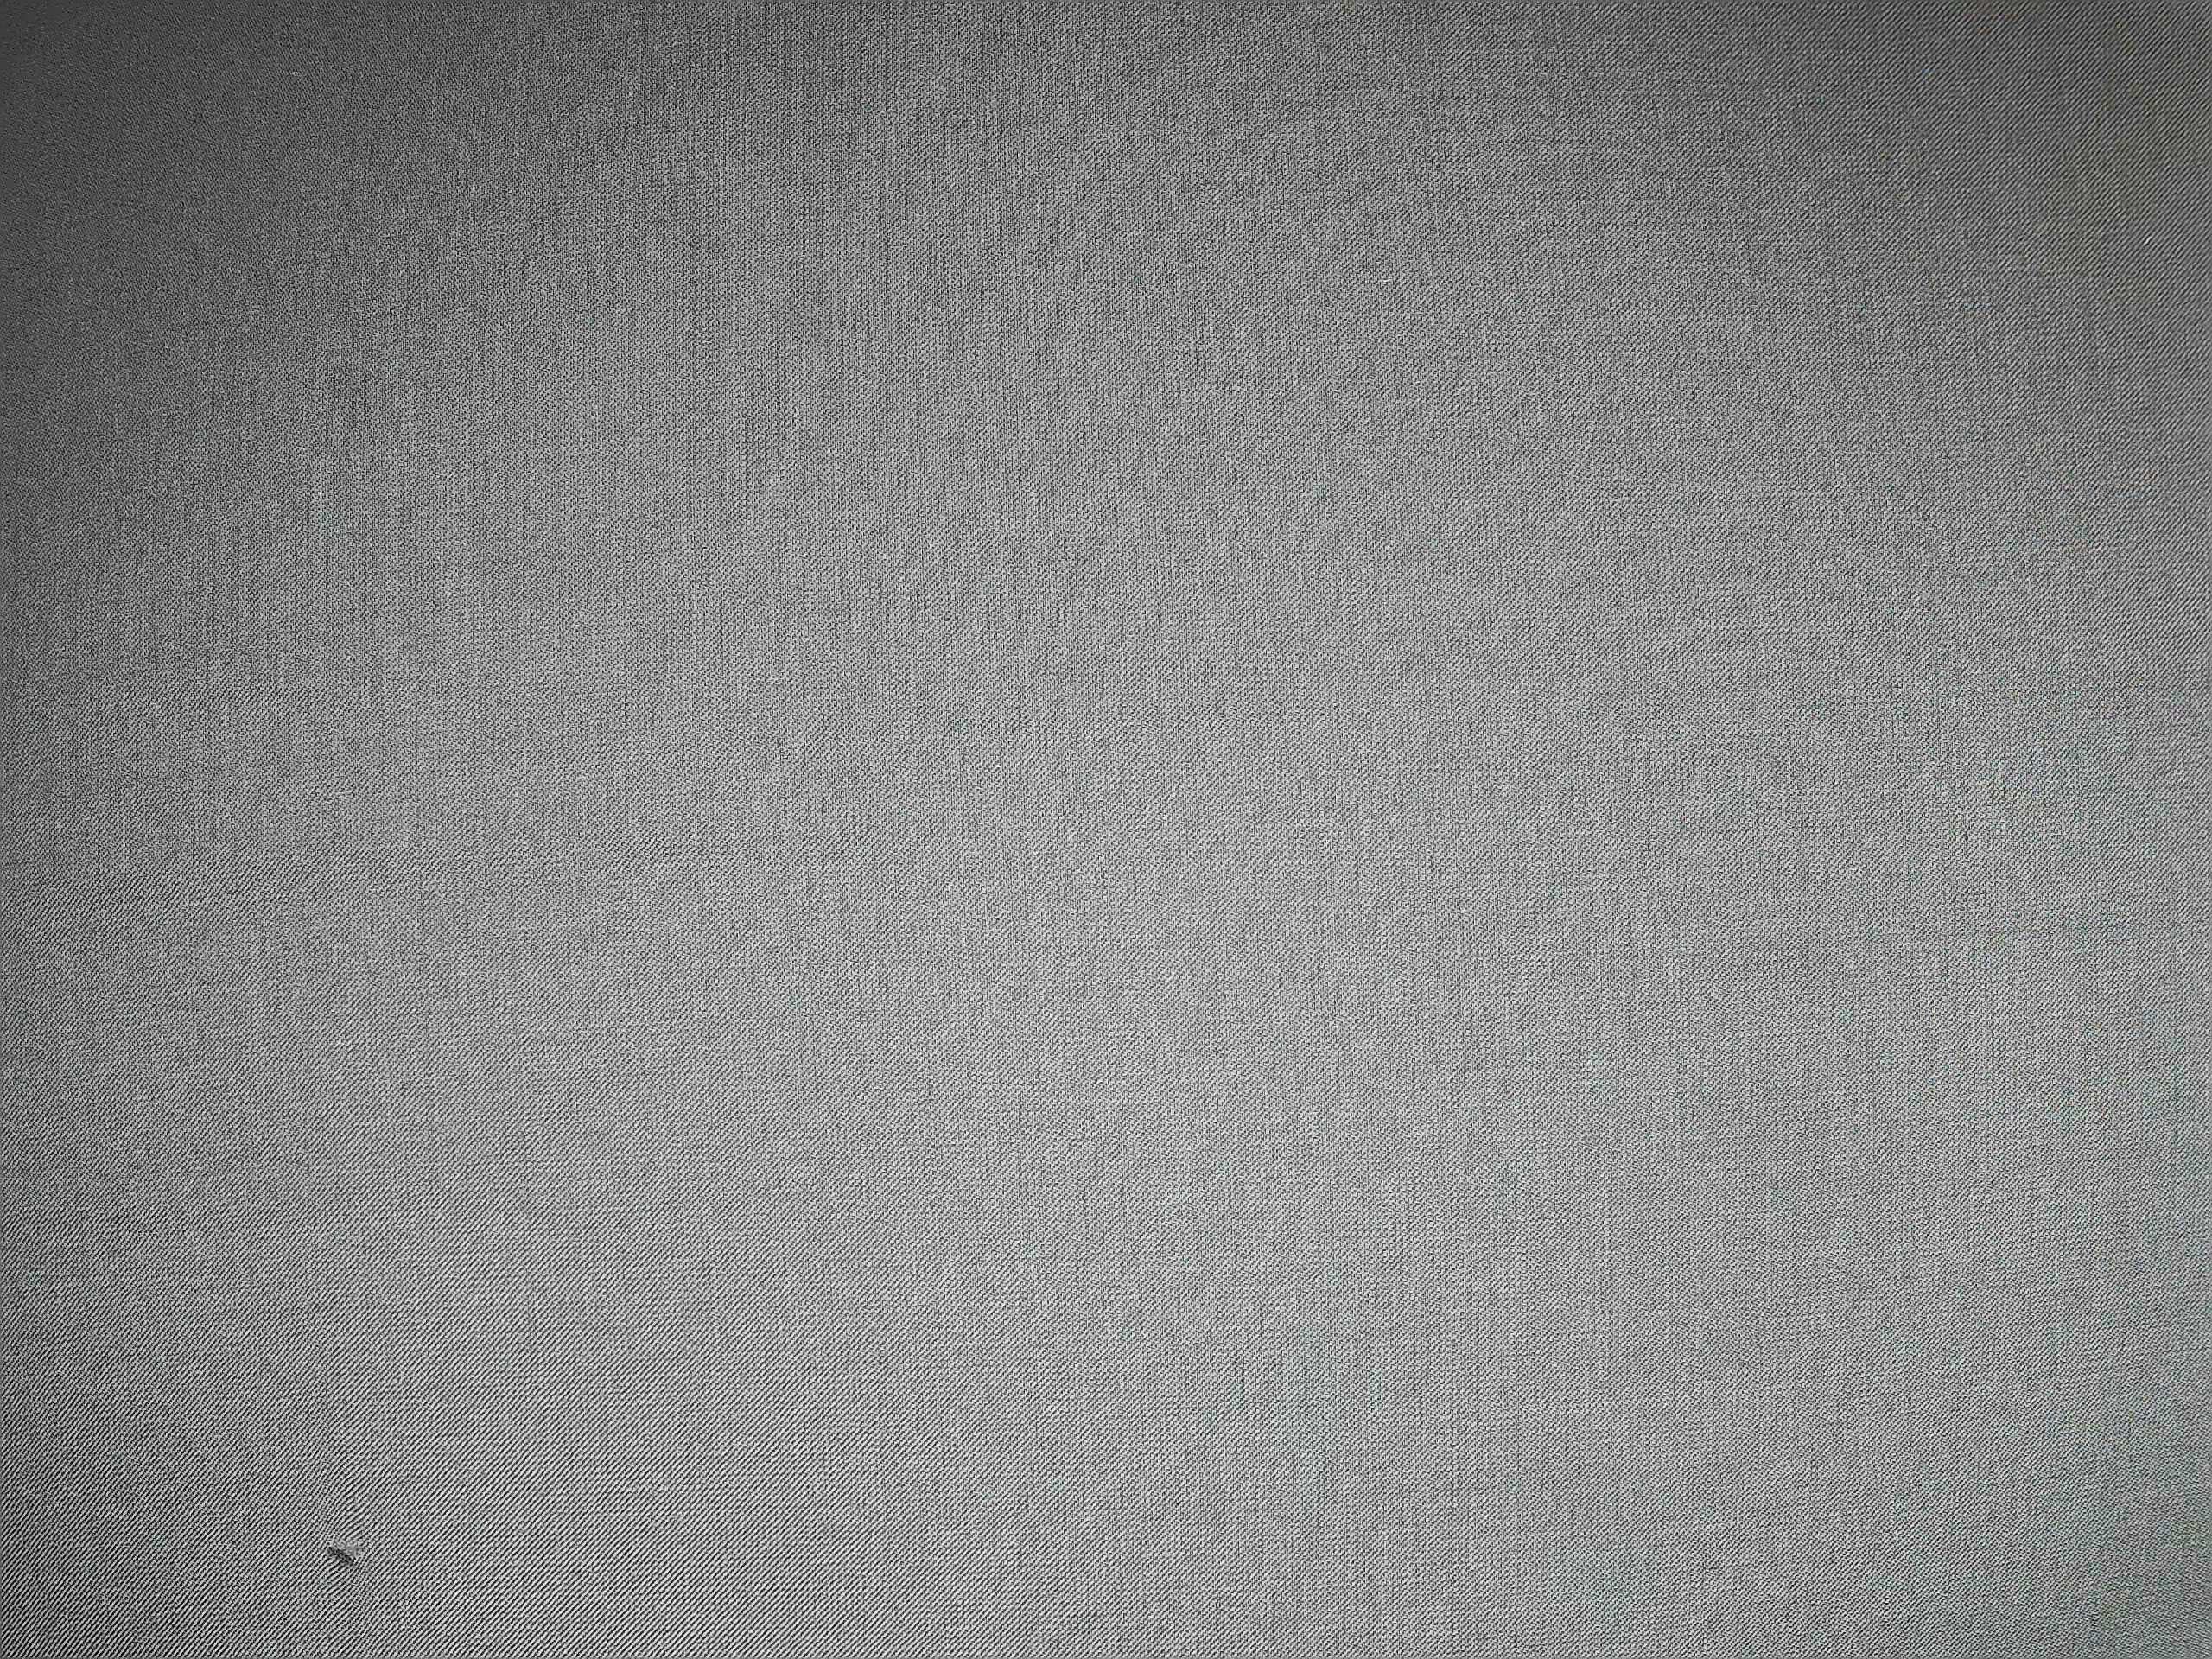rubbing-hole: (298, 1518, 376, 1591)
